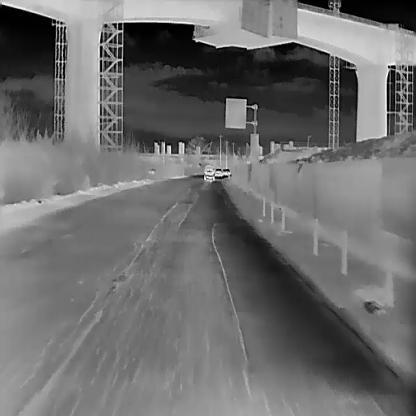car: (204, 164, 214, 181), (214, 168, 222, 180), (223, 168, 230, 176)
